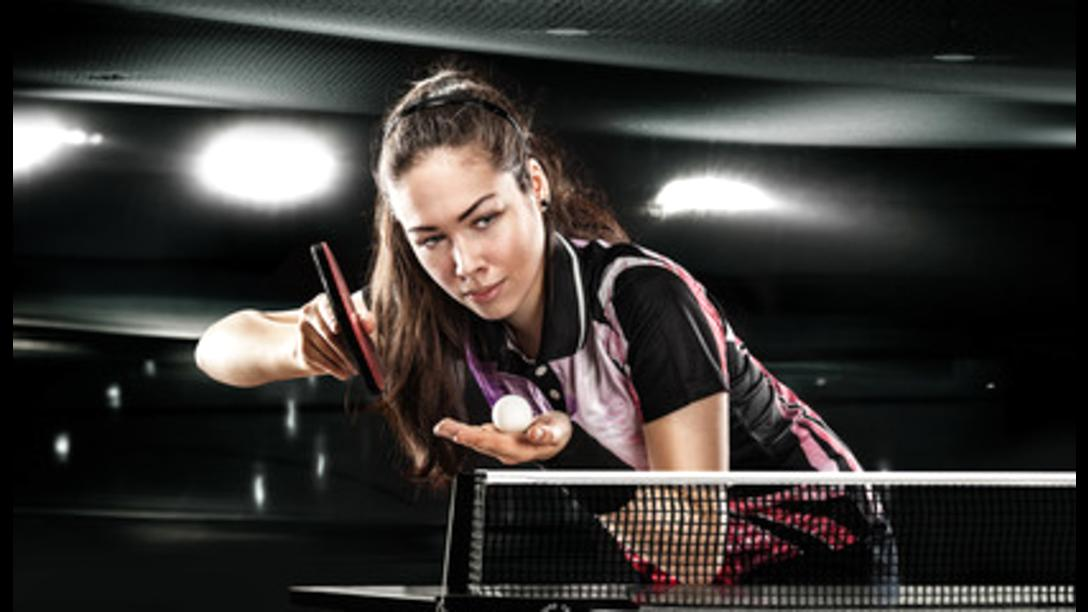Table-Tennis-Ball: (492, 394, 530, 430)
